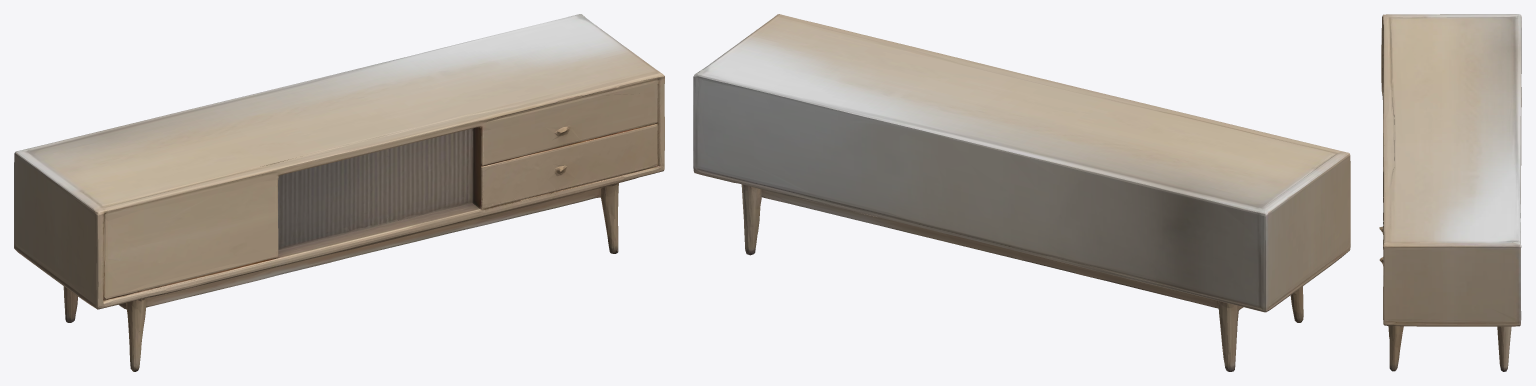
Rendered from ast_8aa72b6f028f.glb.
3 views of the same model, side by side, from view 1: azimuth 30°, elevation 25°; view 2: azimuth 150°, elevation 25°; view 3: azimuth 270°, elevation 25° (orthographic). The views are drawn at different scales.
Visible parts, largest first — view 1: geometry_0; view 2: geometry_0; view 3: geometry_0.
Part boxes in pixels (left/top/right/bottom): geometry_0: left=14, top=14, right=664, bottom=371; geometry_0: left=693, top=14, right=1350, bottom=371; geometry_0: left=1379, top=14, right=1521, bottom=371.
Bounding box in the file's own units: 1 × 0.2962 × 0.2605.
1 material, 1 textured.
